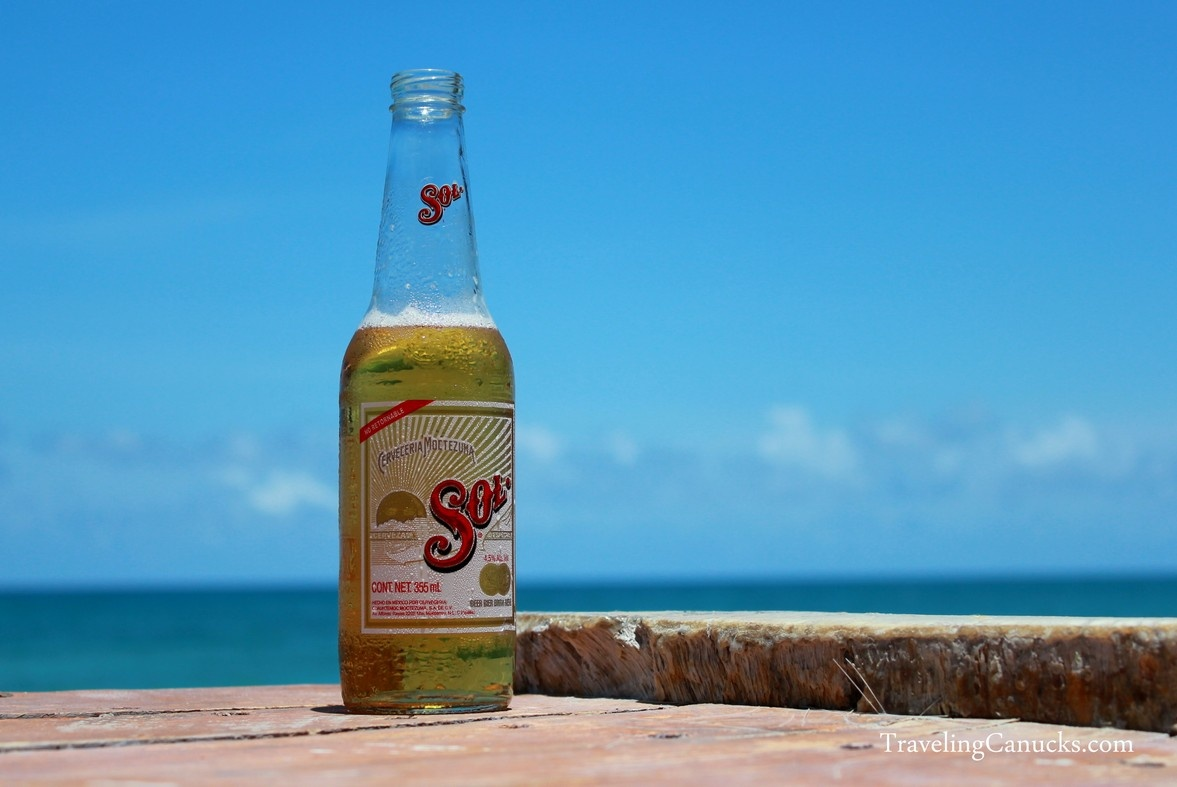beerBottle: (341, 81, 519, 728)
